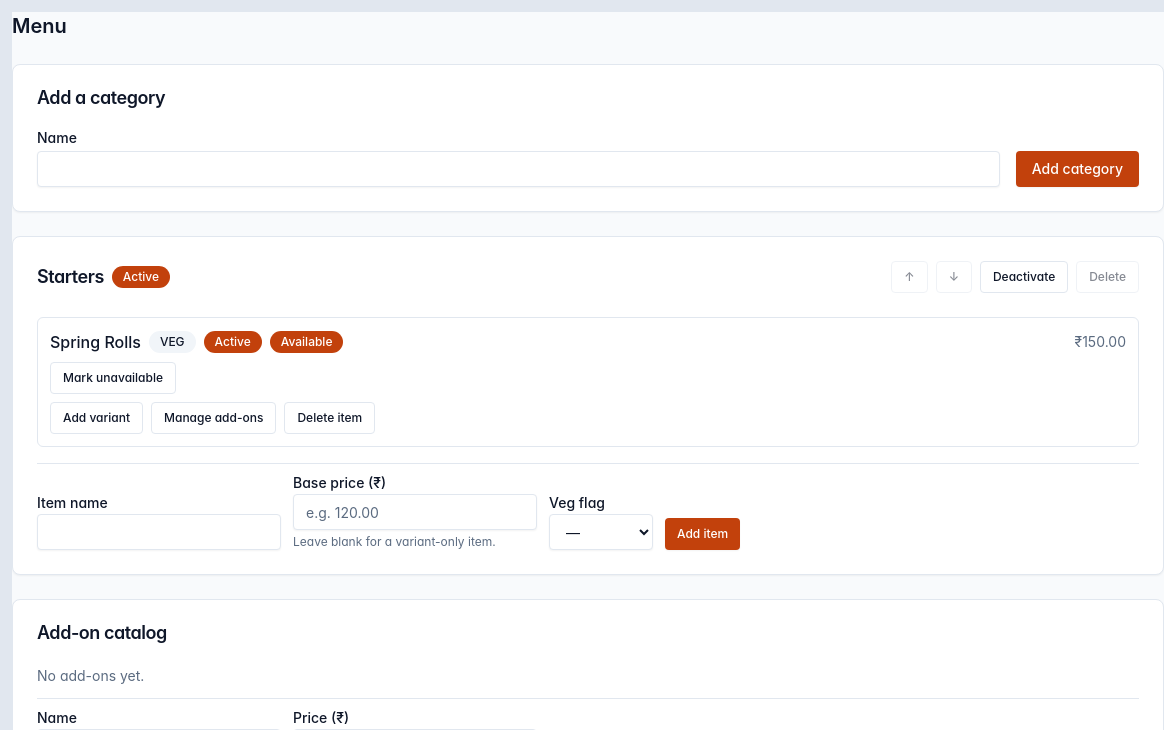
Scenario: MenuPage › shows a mutation error when deleting an item fails
Expected: the text "Spring Rolls" is shown, [50,330,141,354]
What coordinates should you click on to do the following:
click the button "Delete item"
I would click on:
 (330, 418)
Its box is [284,402,375,434].
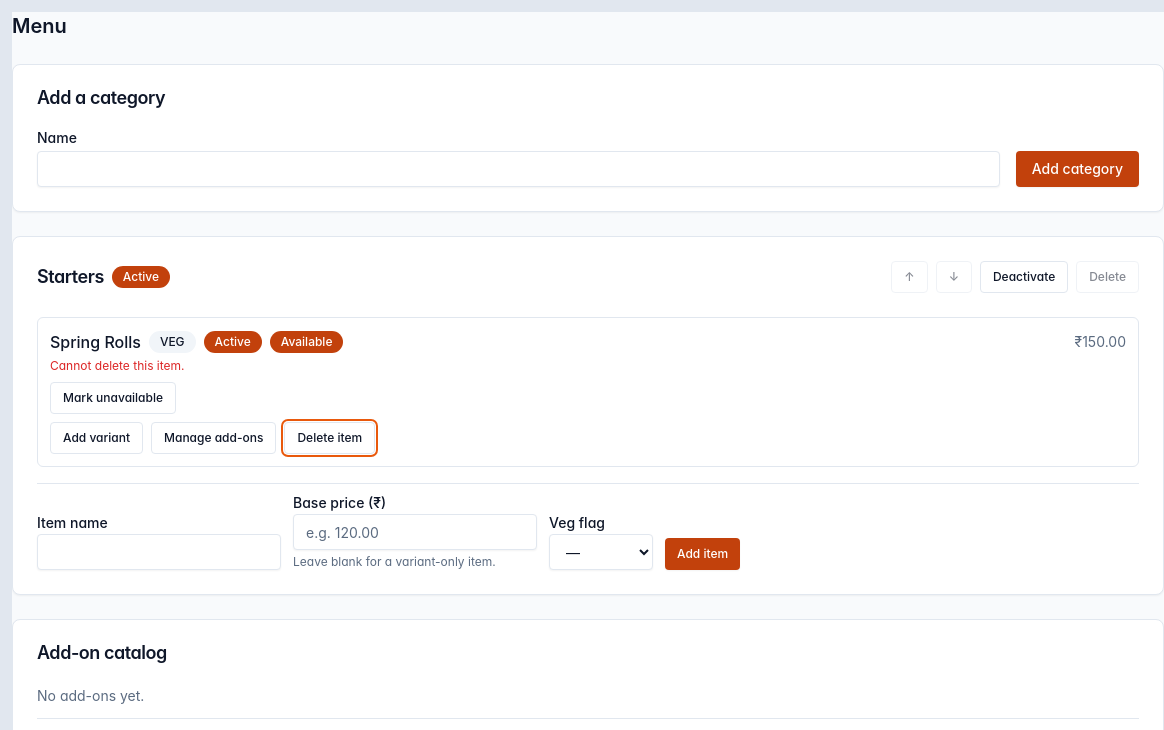
Now the text "Cannot delete this item." is shown, box [50,358,184,373]
